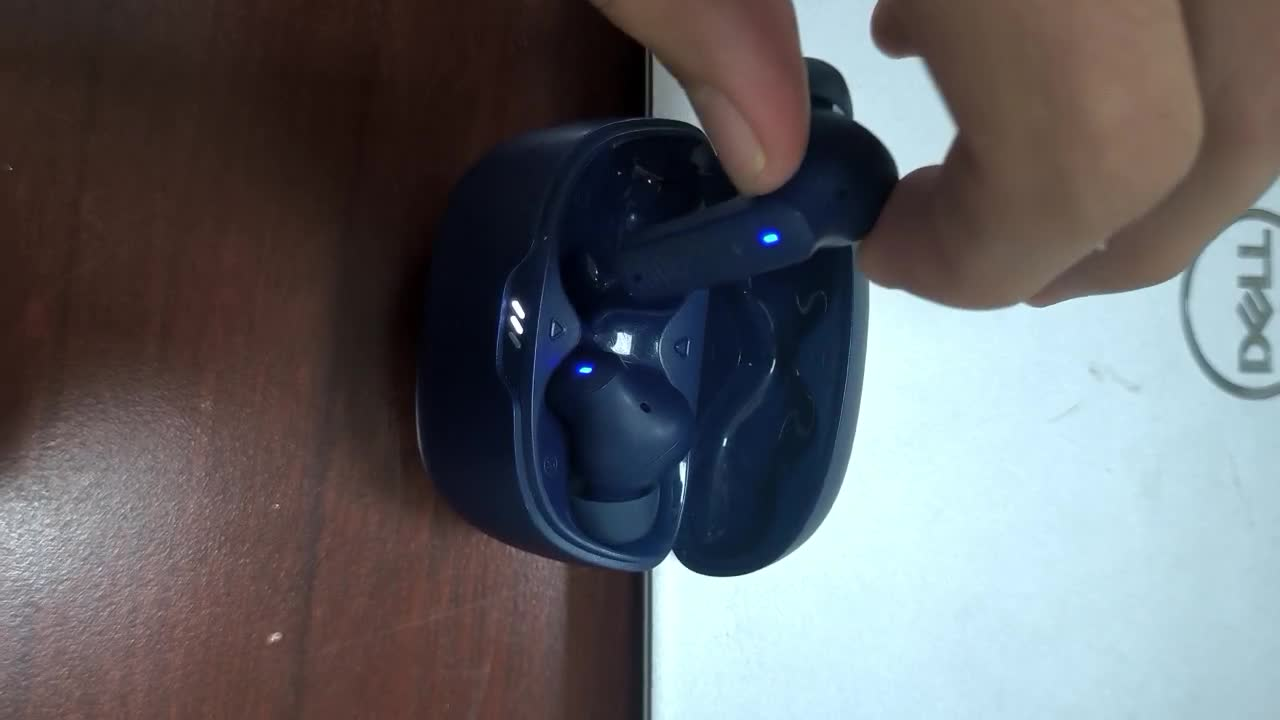Earbud: (579, 60, 896, 308), (546, 346, 693, 544)
